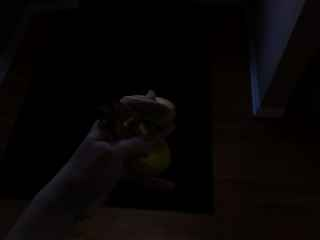banana: (94, 94, 175, 184)
